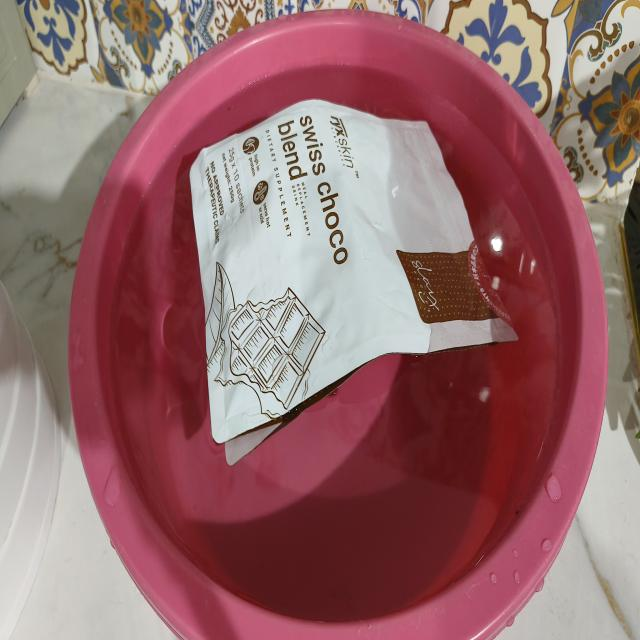Plastic Pouch: (190, 100, 517, 443)
